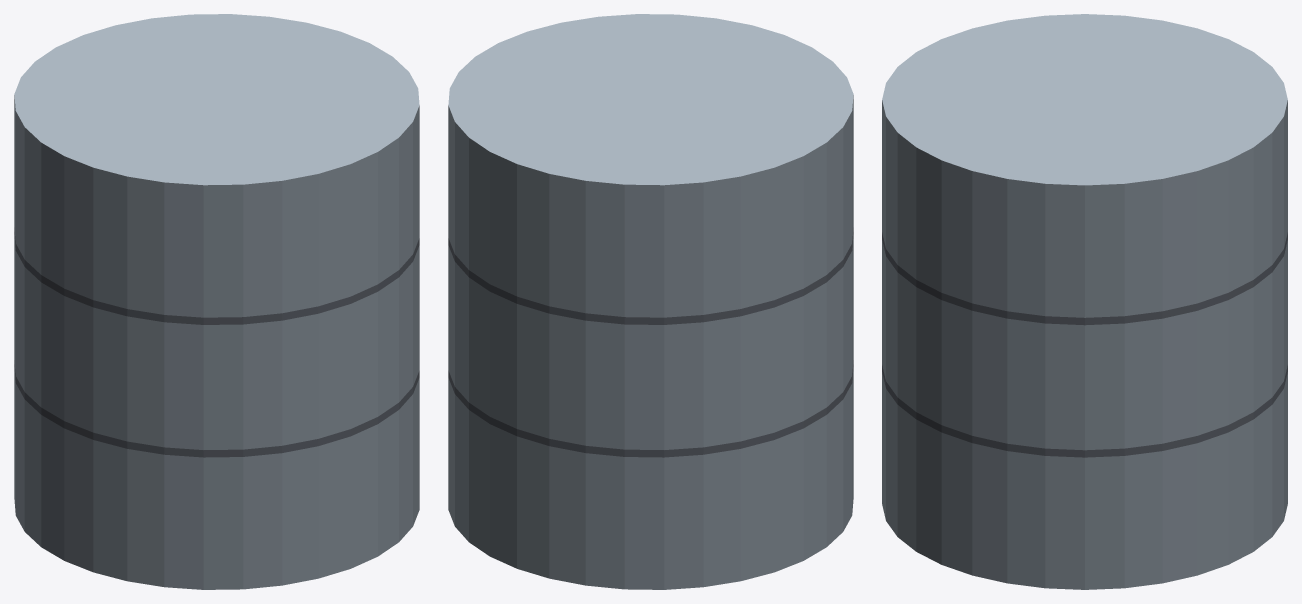
File: postgresql.glb
3 renders of one model, left to right at view 1: azimuth 30°, elevation 25°; view 2: azimuth 150°, elevation 25°; view 3: azimuth 270°, elevation 25°, orthographic.
Visible parts, largest first — view 1: chassis, cap, dark; view 2: chassis, cap, dark; view 3: chassis, cap, dark.
Boxes of the visible parts, x1,y1,x2,y2 form: chassis: (14,95,419,589); cap: (14,14,419,185); dark: (14,227,419,457); chassis: (448,95,853,589); cap: (448,14,853,185); dark: (448,227,853,457); chassis: (882,100,1287,589); cap: (882,14,1287,185); dark: (882,232,1287,457).
Size of the model in its own units: 1 by 1.1 by 1.
